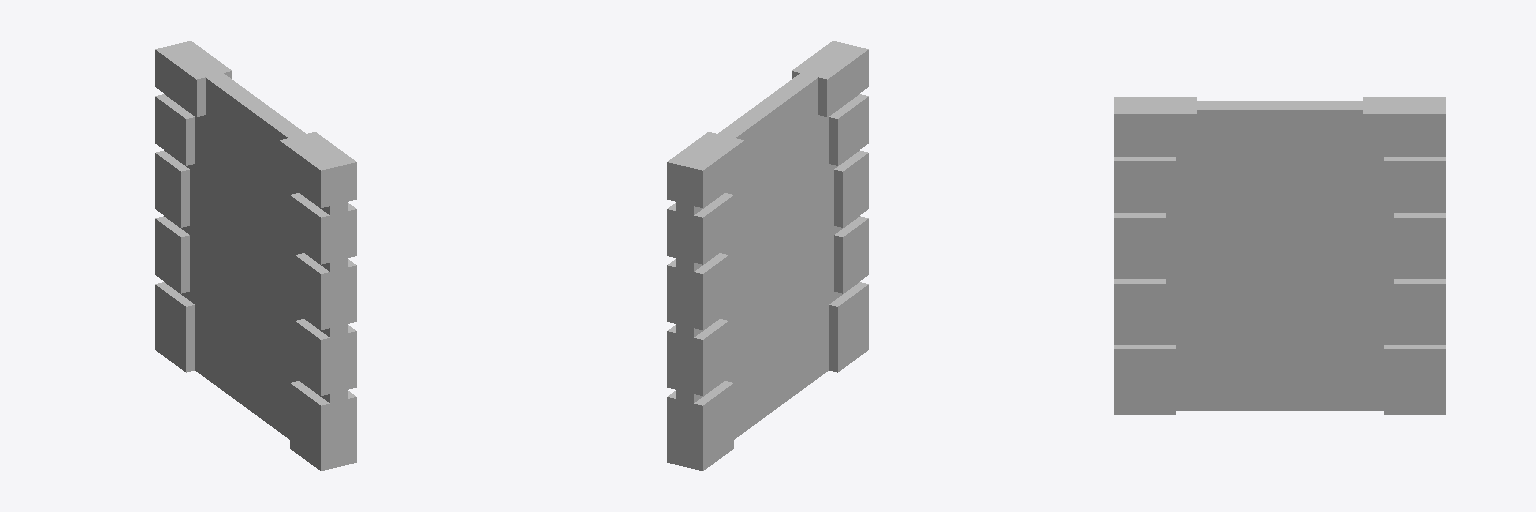
File: door.obj
3 views of the same model, side by side, from view 1: azimuth 30°, elevation 25°; view 2: azimuth 150°, elevation 25°; view 3: azimuth 270°, elevation 25° (orthographic).
Bounding box in the file's own units: 4 × 32 × 32.